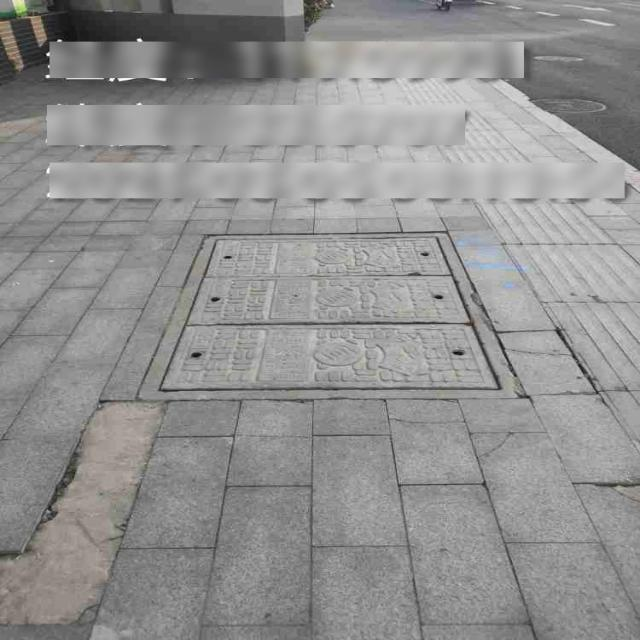Good: (140, 219, 536, 413)
